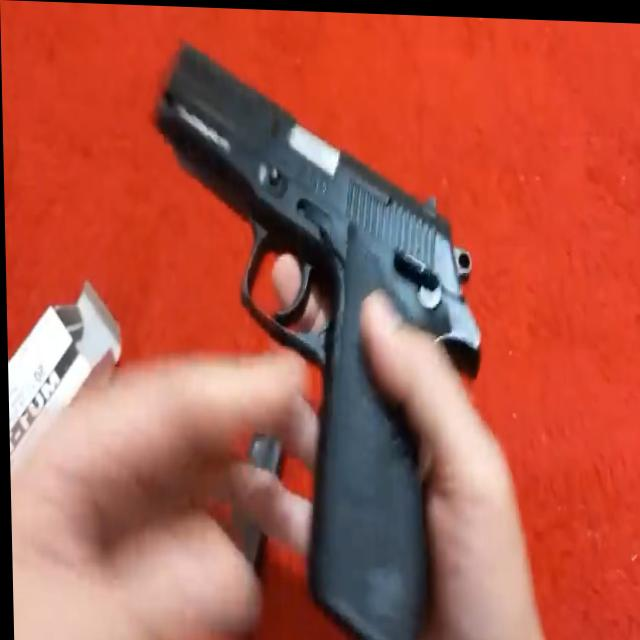handgun: (144, 30, 494, 640)
